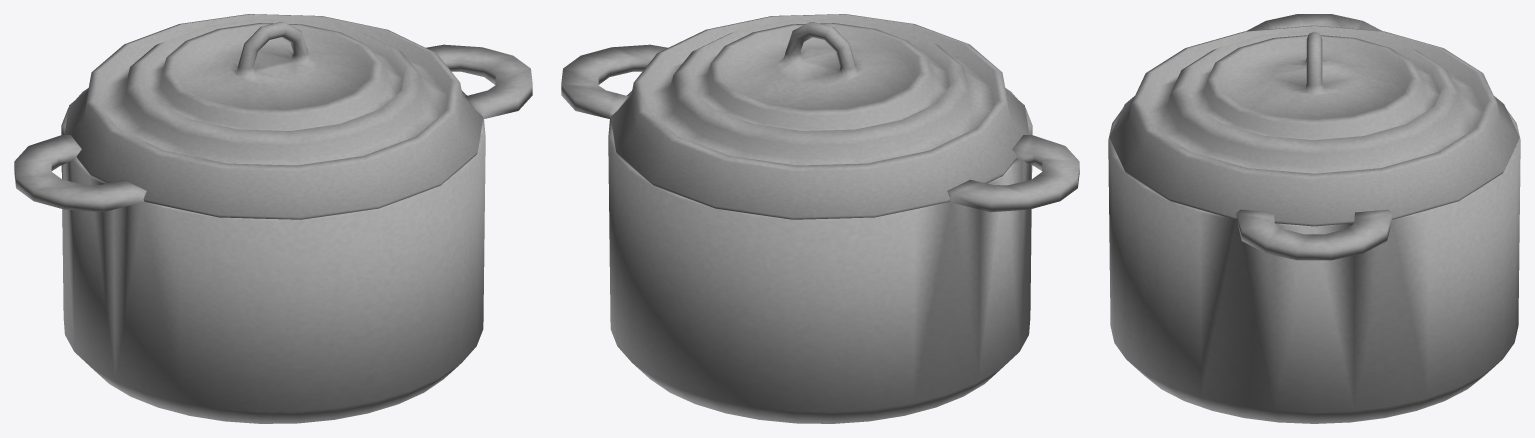
File: cookingpot.glb
The picture shows the model from 3 angles, left to right: view 1: azimuth 30°, elevation 25°; view 2: azimuth 150°, elevation 25°; view 3: azimuth 270°, elevation 25°; orthographic projection. The views are drawn at different scales.
Parts seen in each view (by area): view 1: cookingpot, cookingpot.003; view 2: cookingpot, cookingpot.003; view 3: cookingpot, cookingpot.003.
Boxes of the visible parts, x1=… form: cookingpot: x1=14, y1=44, x2=532, y2=423; cookingpot.003: x1=64, y1=14, x2=483, y2=219; cookingpot: x1=561, y1=44, x2=1079, y2=423; cookingpot.003: x1=610, y1=14, x2=1029, y2=219; cookingpot: x1=1108, y1=14, x2=1520, y2=423; cookingpot.003: x1=1109, y1=25, x2=1519, y2=226.
Size of the model in its own units: 1.16 by 0.7125 by 0.8571.
1 material, 1 textured.
